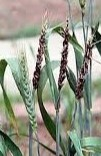Wheat Loose Smut: (32, 24, 93, 96)
